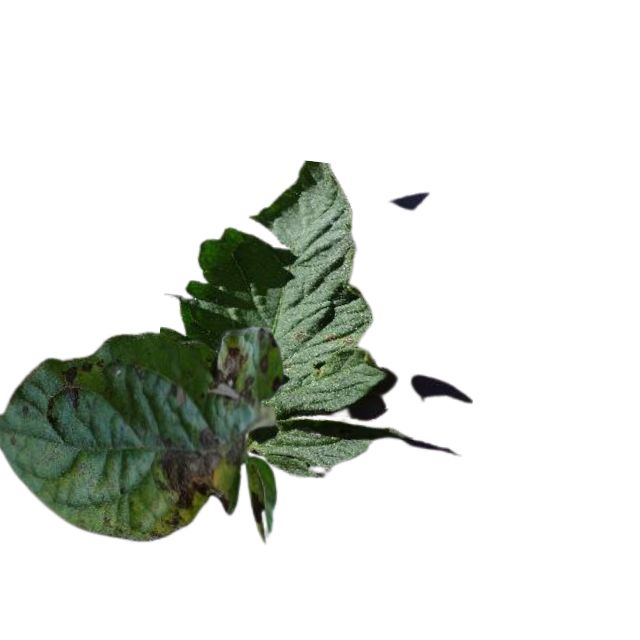Early_blight: (158, 426, 243, 525), (202, 344, 255, 409), (58, 365, 82, 412), (324, 328, 355, 346), (268, 374, 291, 393), (256, 352, 274, 375)
